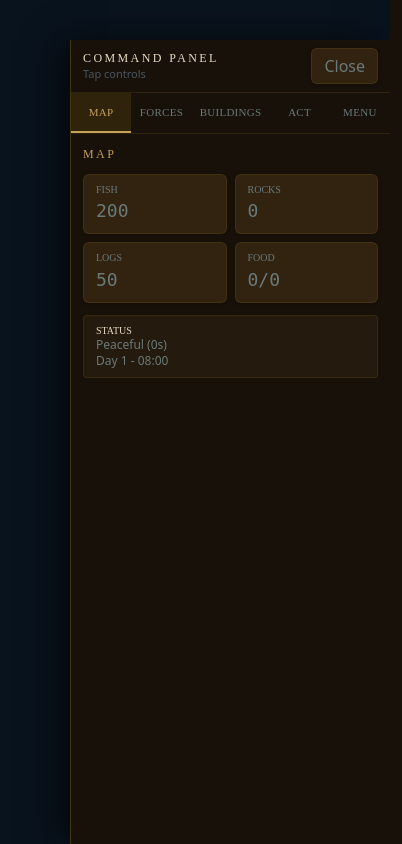
Test: CommandPanel Forces tab › renders human-readable unit task labels instead of raw task ids
This screenshot has width=402, height=844.
Click the button "Forces" at (161, 113), box [131, 93, 192, 133]
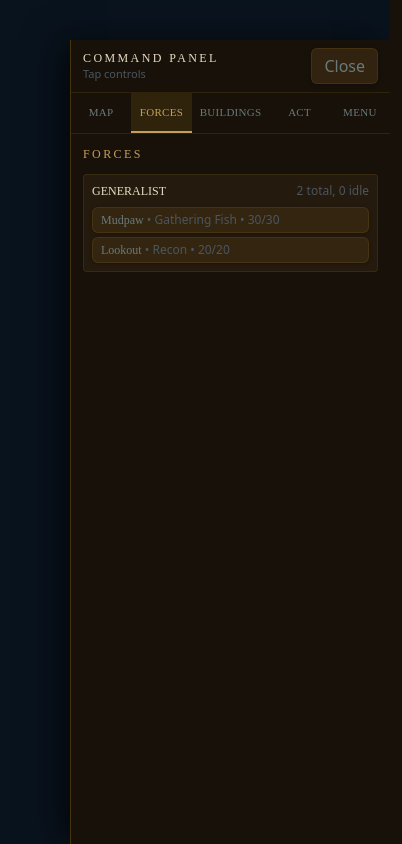
Result: the text "Mudpaw" is shown at [101, 213, 144, 227]
Result: the text "• Gathering Fish • 30/30" is shown at [144, 211, 280, 228]
Result: the text "• Recon • 20/20" is shown at [142, 241, 230, 258]
